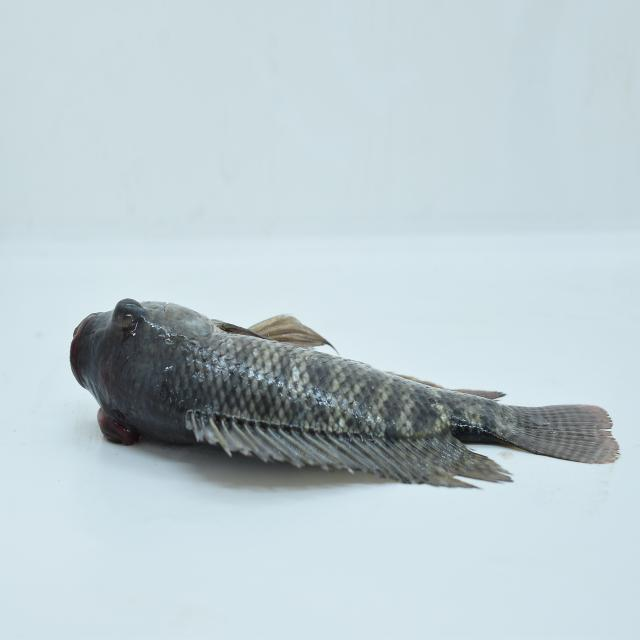Columnaris Disease: (51, 240, 629, 524)
